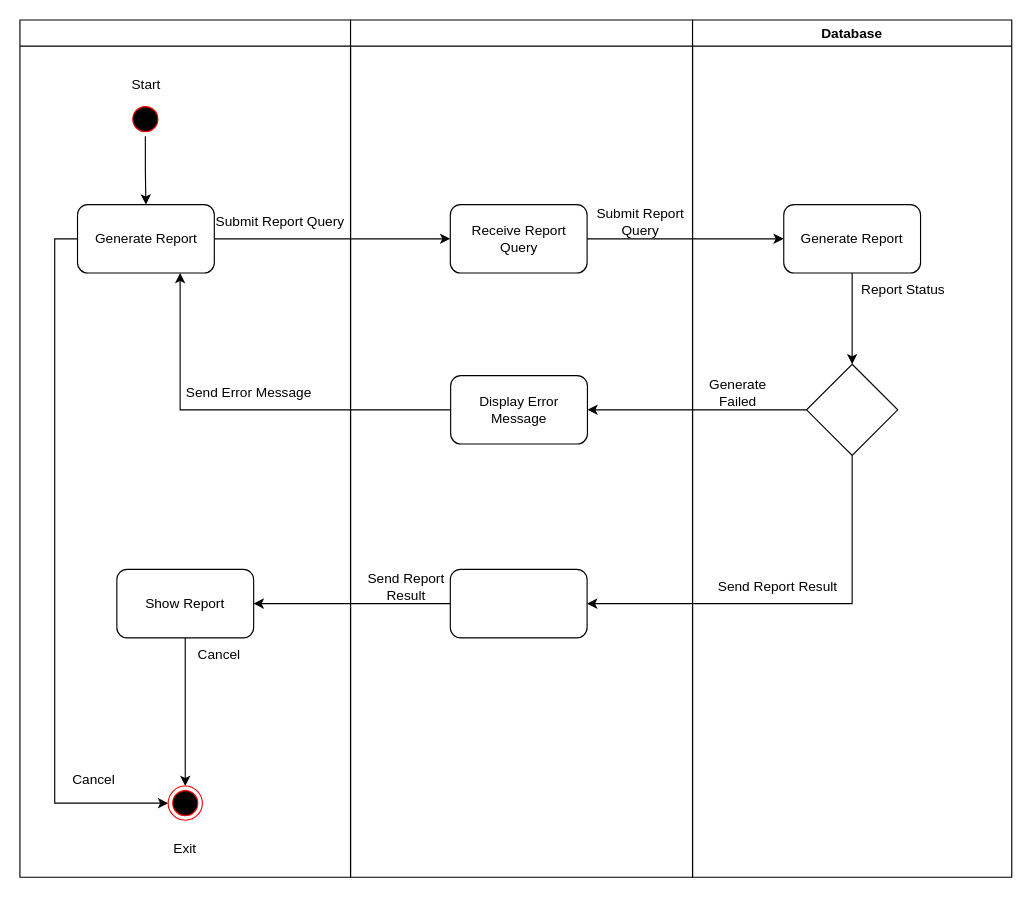
The diagram is 1032 pixels wide and 897 high, and some of its shapes have lost their labels. Each missing label, with the box of its shape:
Display Report Data: (449, 568, 587, 638)
Web Page: (19, 19, 351, 877)
Web Server: (349, 19, 693, 877)
